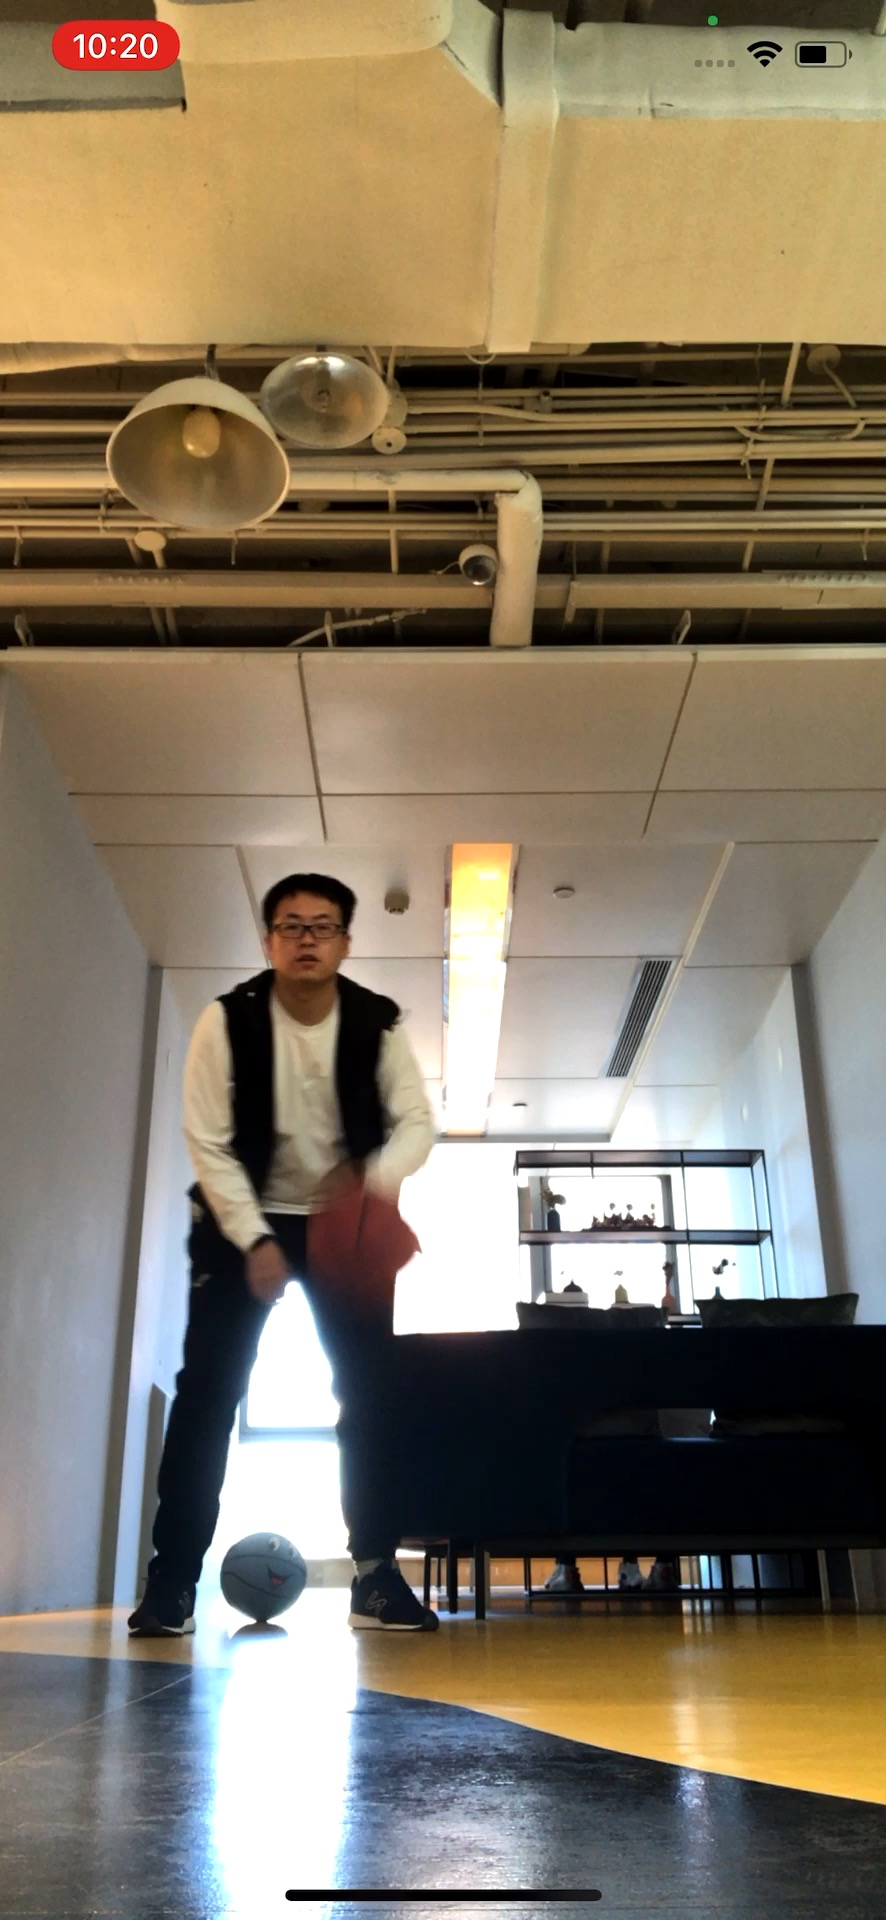ball: (312, 1188, 414, 1291), (221, 1529, 303, 1622)
